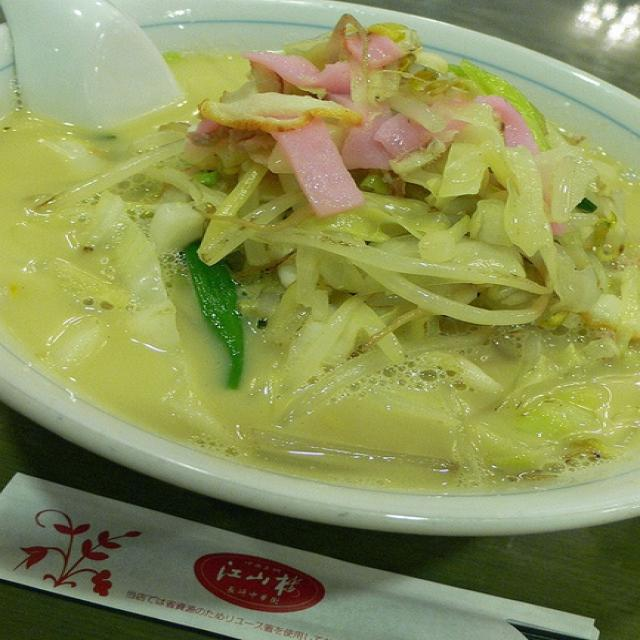熟制海鲜: (10, 2, 640, 469)
